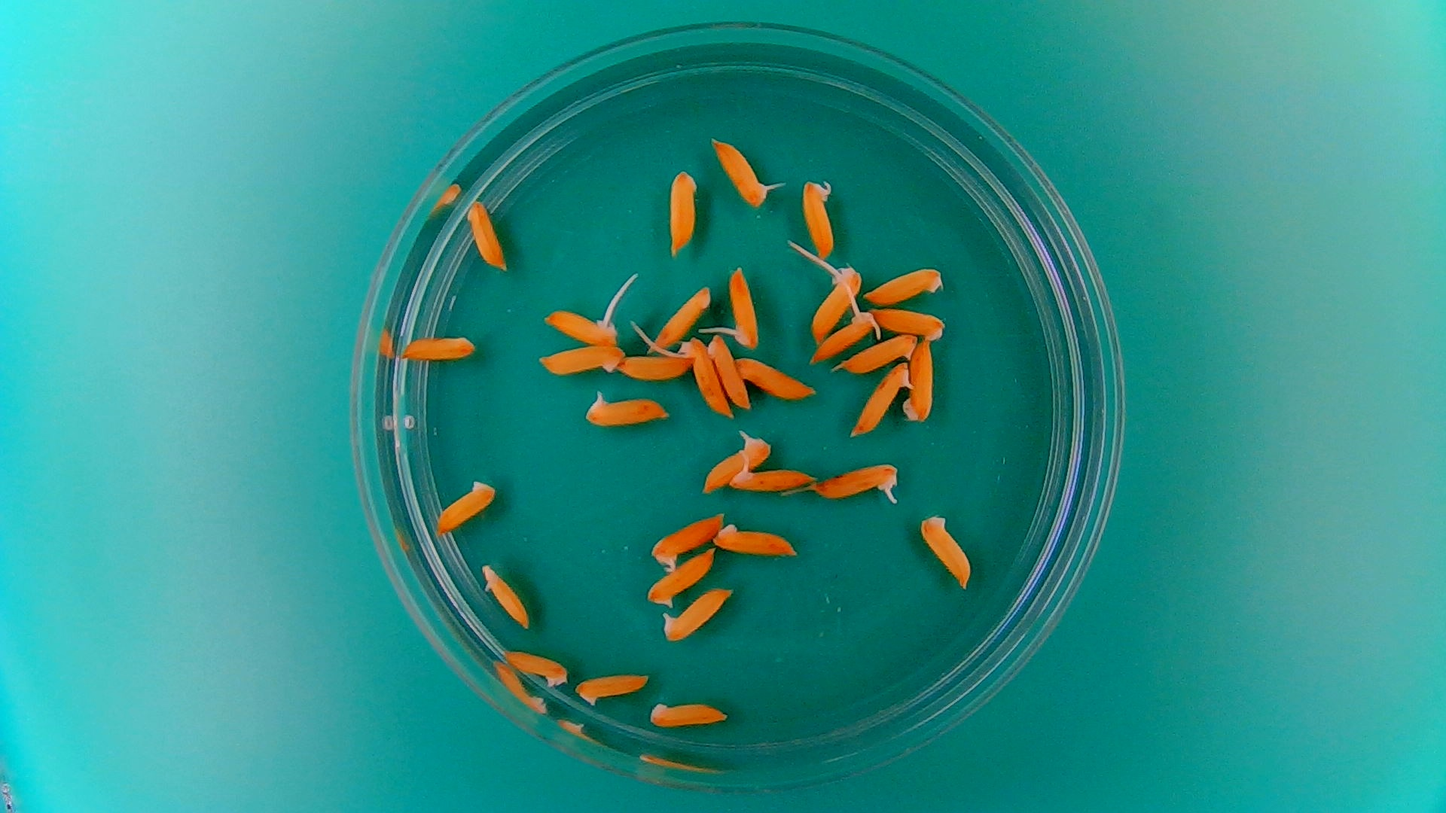no: (643, 285, 715, 360), (644, 544, 720, 608), (918, 510, 976, 592), (432, 474, 500, 536), (862, 261, 947, 307), (734, 354, 817, 400), (477, 563, 532, 631), (837, 330, 918, 376), (705, 333, 749, 413), (538, 341, 626, 379), (903, 336, 938, 427), (465, 198, 508, 272), (666, 164, 700, 257), (501, 645, 572, 688), (870, 305, 947, 342), (716, 524, 802, 556), (400, 330, 477, 364), (617, 349, 693, 383), (575, 674, 650, 706), (646, 699, 728, 728)
yes: (850, 359, 912, 434), (700, 434, 773, 495), (651, 509, 723, 568), (663, 586, 736, 644), (712, 141, 773, 210), (684, 337, 733, 417), (811, 306, 877, 365), (813, 263, 861, 341), (798, 175, 840, 262), (815, 464, 901, 504), (584, 391, 671, 428), (725, 269, 762, 352), (730, 464, 815, 496), (549, 308, 618, 346)
